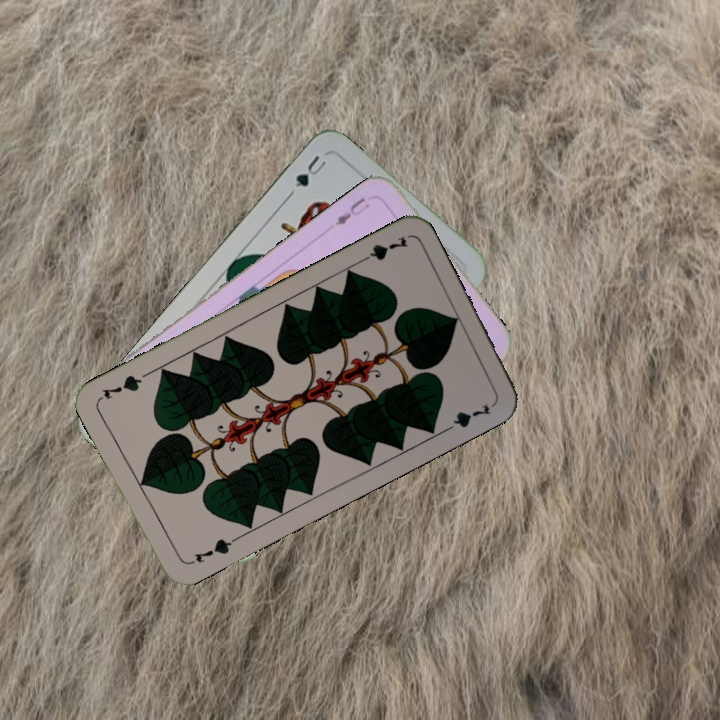EU: (331, 193, 373, 228)
G7: (354, 232, 411, 267), (184, 533, 239, 568)
GU: (291, 151, 329, 190)
